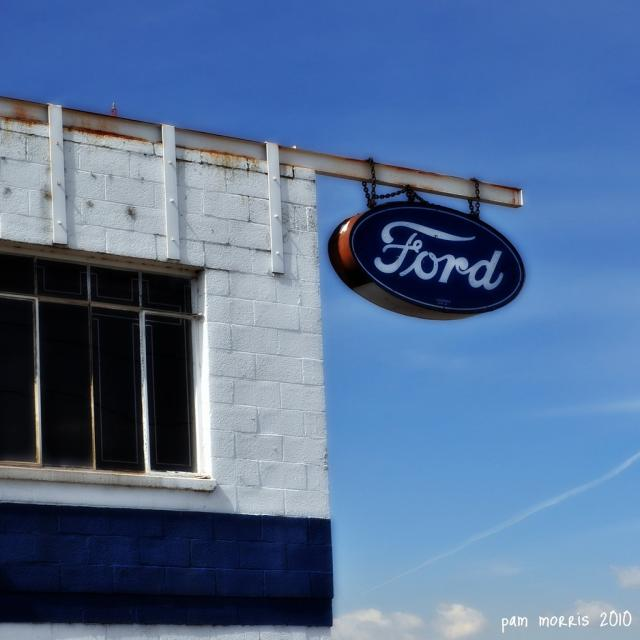ford: (345, 201, 532, 319)
